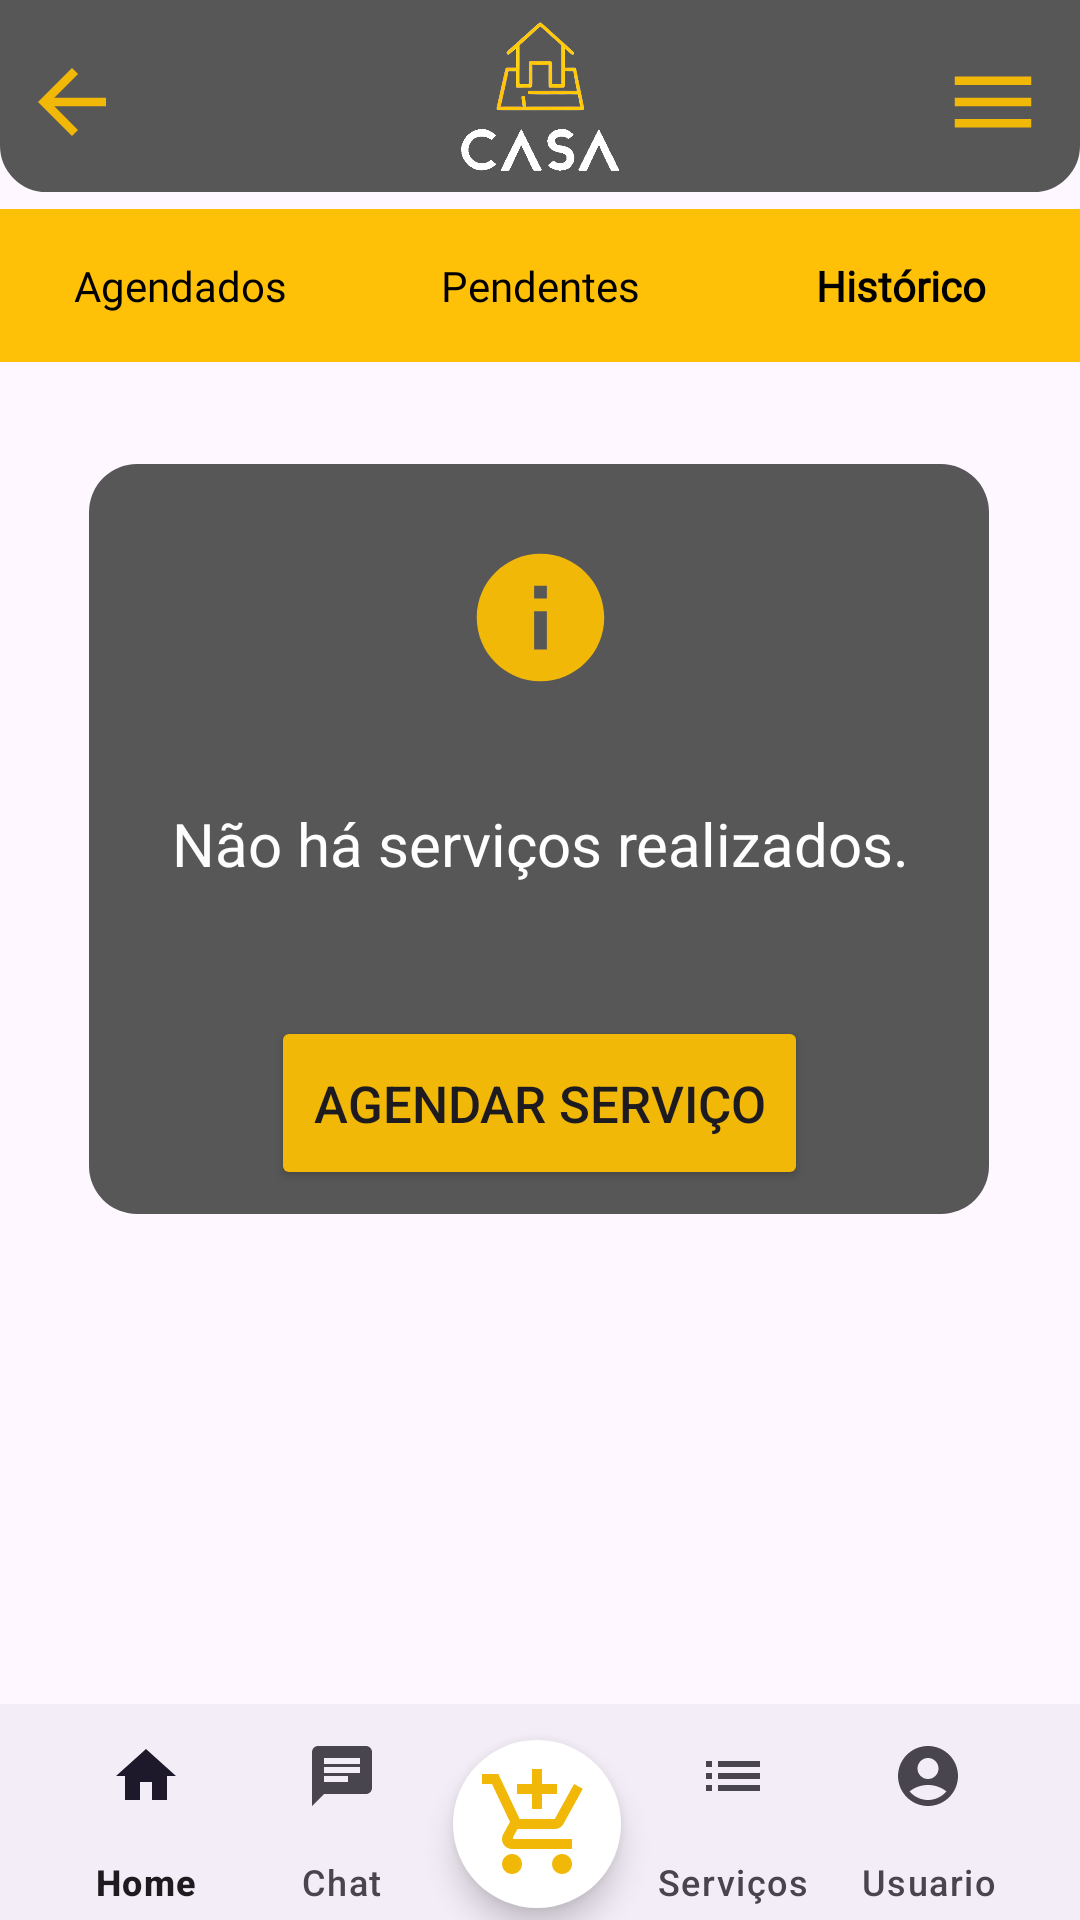

Point at icon controls on the screen. Image size 1080px x 1920px, points as (x,y).
arrow back: (72,102)
info: (540,617)
menu: (993,102)
